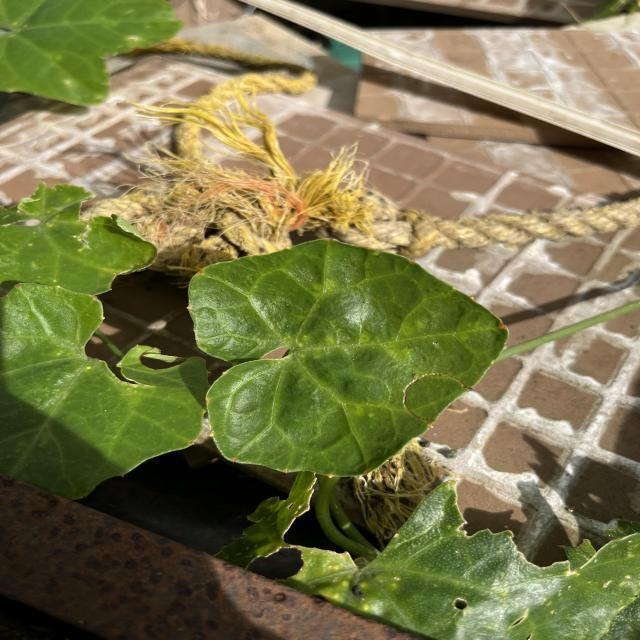Coccinia grandis: (185, 234, 512, 482)
